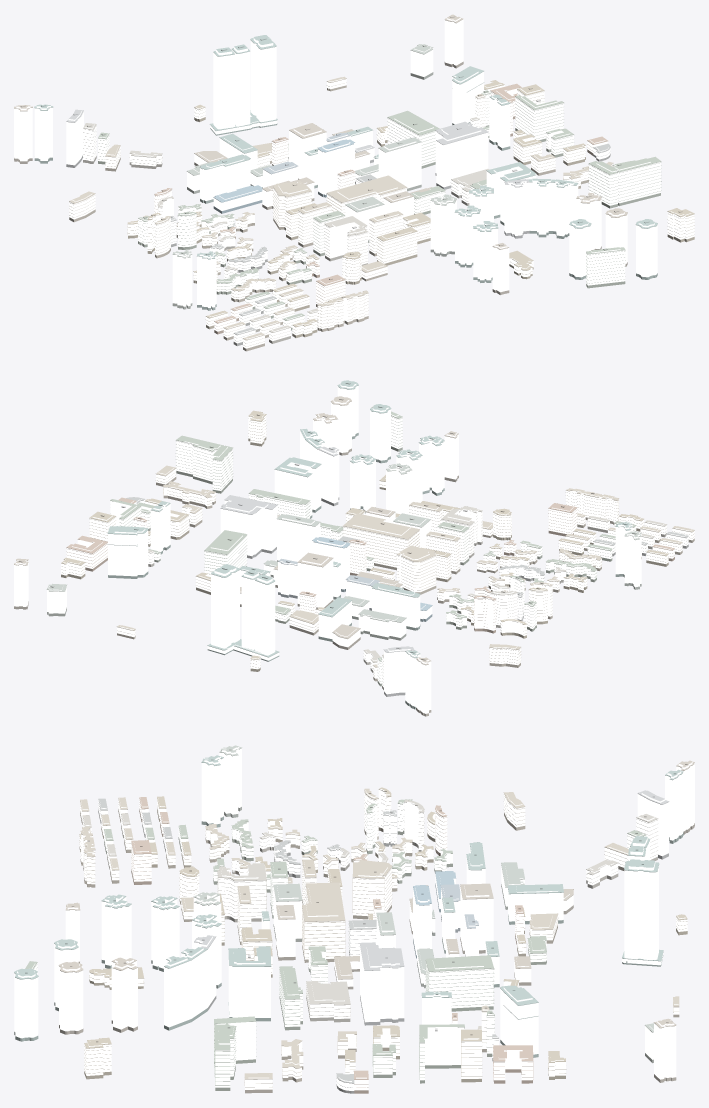
The model's file is buildings--4_0-fine.glb.
3 views of the same model, one above another, from view 1: azimuth 30°, elevation 25°; view 2: azimuth 150°, elevation 25°; view 3: azimuth 270°, elevation 25° (orthographic). The views are drawn at different scales.
Parts seen in each view (by area): view 1: block_-4_0_office, block_-4_0_residential, block_-4_0_roof, block_-4_0_darkglass, block_-4_0_concrete, block_-4_0_steel; view 2: block_-4_0_office, block_-4_0_residential, block_-4_0_roof, block_-4_0_darkglass, block_-4_0_concrete, block_-4_0_steel; view 3: block_-4_0_office, block_-4_0_roof, block_-4_0_residential, block_-4_0_darkglass, block_-4_0_concrete, block_-4_0_steel.
Part boxes in pixels (bbox=[...]): block_-4_0_office: bbox=[14, 16, 657, 307]; block_-4_0_residential: bbox=[69, 78, 694, 348]; block_-4_0_roof: bbox=[14, 14, 694, 346]; block_-4_0_darkglass: bbox=[14, 61, 694, 351]; block_-4_0_concrete: bbox=[69, 78, 694, 345]; block_-4_0_steel: bbox=[14, 19, 656, 259]; block_-4_0_office: bbox=[14, 384, 641, 713]; block_-4_0_residential: bbox=[61, 413, 694, 687]; block_-4_0_roof: bbox=[14, 380, 694, 679]; block_-4_0_darkglass: bbox=[14, 433, 694, 716]; block_-4_0_concrete: bbox=[61, 412, 694, 681]; block_-4_0_steel: bbox=[14, 385, 641, 665]; block_-4_0_office: bbox=[14, 747, 694, 1079]; block_-4_0_roof: bbox=[14, 745, 694, 1089]; block_-4_0_residential: bbox=[32, 789, 687, 1090]; block_-4_0_darkglass: bbox=[14, 807, 694, 1093]; block_-4_0_concrete: bbox=[33, 789, 687, 1087]; block_-4_0_steel: bbox=[14, 748, 694, 1032].
Size of the model in its own units: 646 by 104 by 651.
